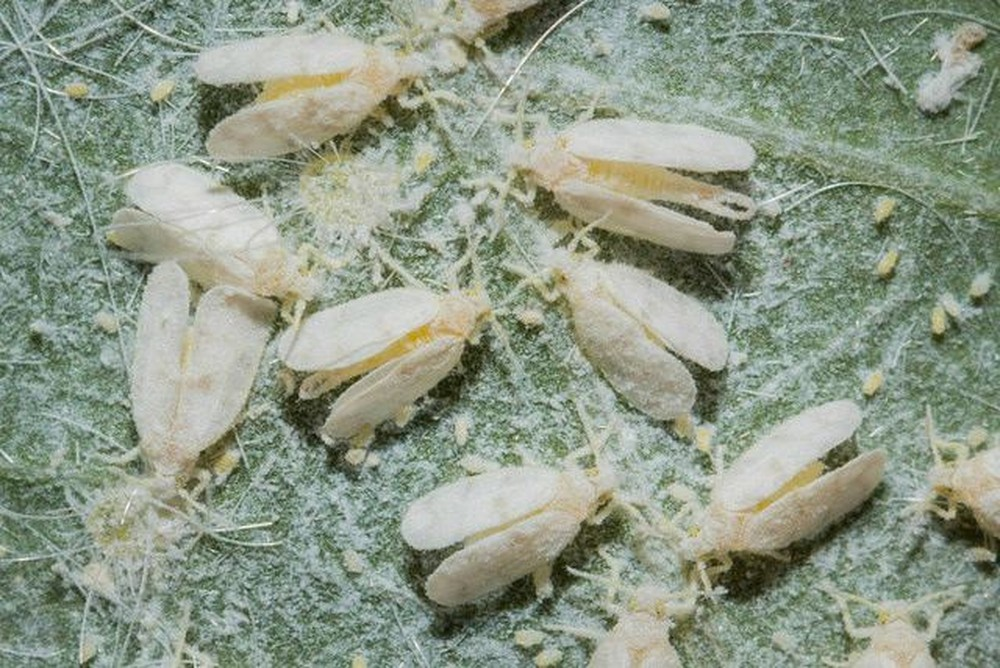Mosca Blanca: (480, 92, 785, 268), (514, 232, 746, 425), (94, 276, 278, 519), (187, 12, 470, 163), (688, 387, 892, 584), (278, 269, 501, 437), (398, 444, 622, 607), (97, 159, 330, 313)
